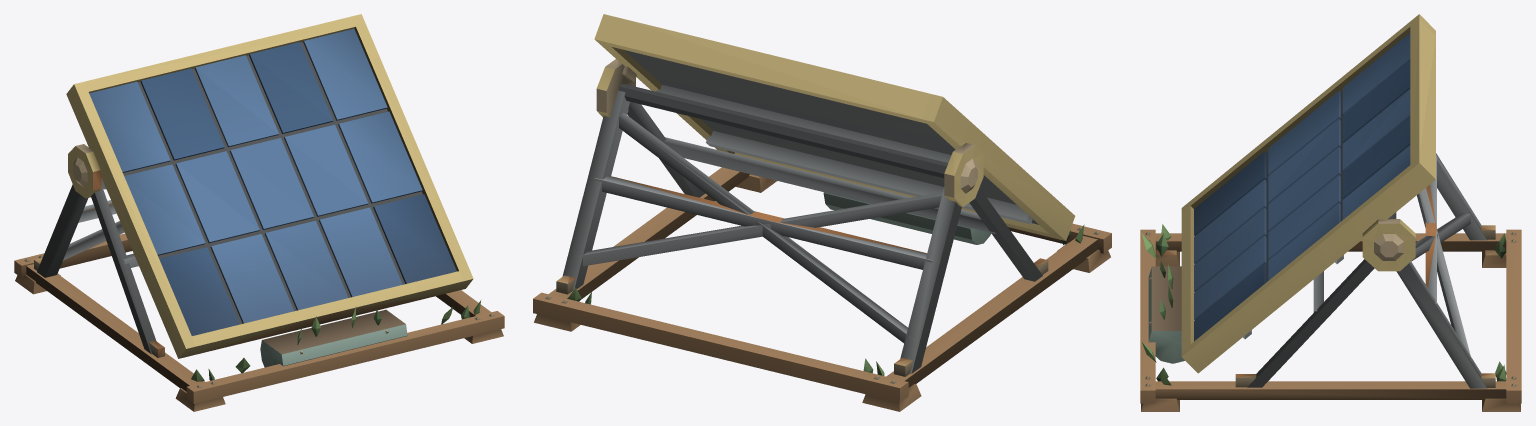
File: solar.glb
The picture shows the model from 3 angles, left to right: view 1: azimuth 30°, elevation 25°; view 2: azimuth 150°, elevation 25°; view 3: azimuth 270°, elevation 25°; orthographic projection. The views are drawn at different scales.
Visible parts, largest first — view 1: solar; view 2: solar; view 3: solar.
Boxes of the visible parts, x1,y1,x2,y2 form: solar: (14,14,504,411); solar: (533,14,1111,411); solar: (1140,14,1521,411).
Size of the model in its own units: 4 by 2.82 by 4.
